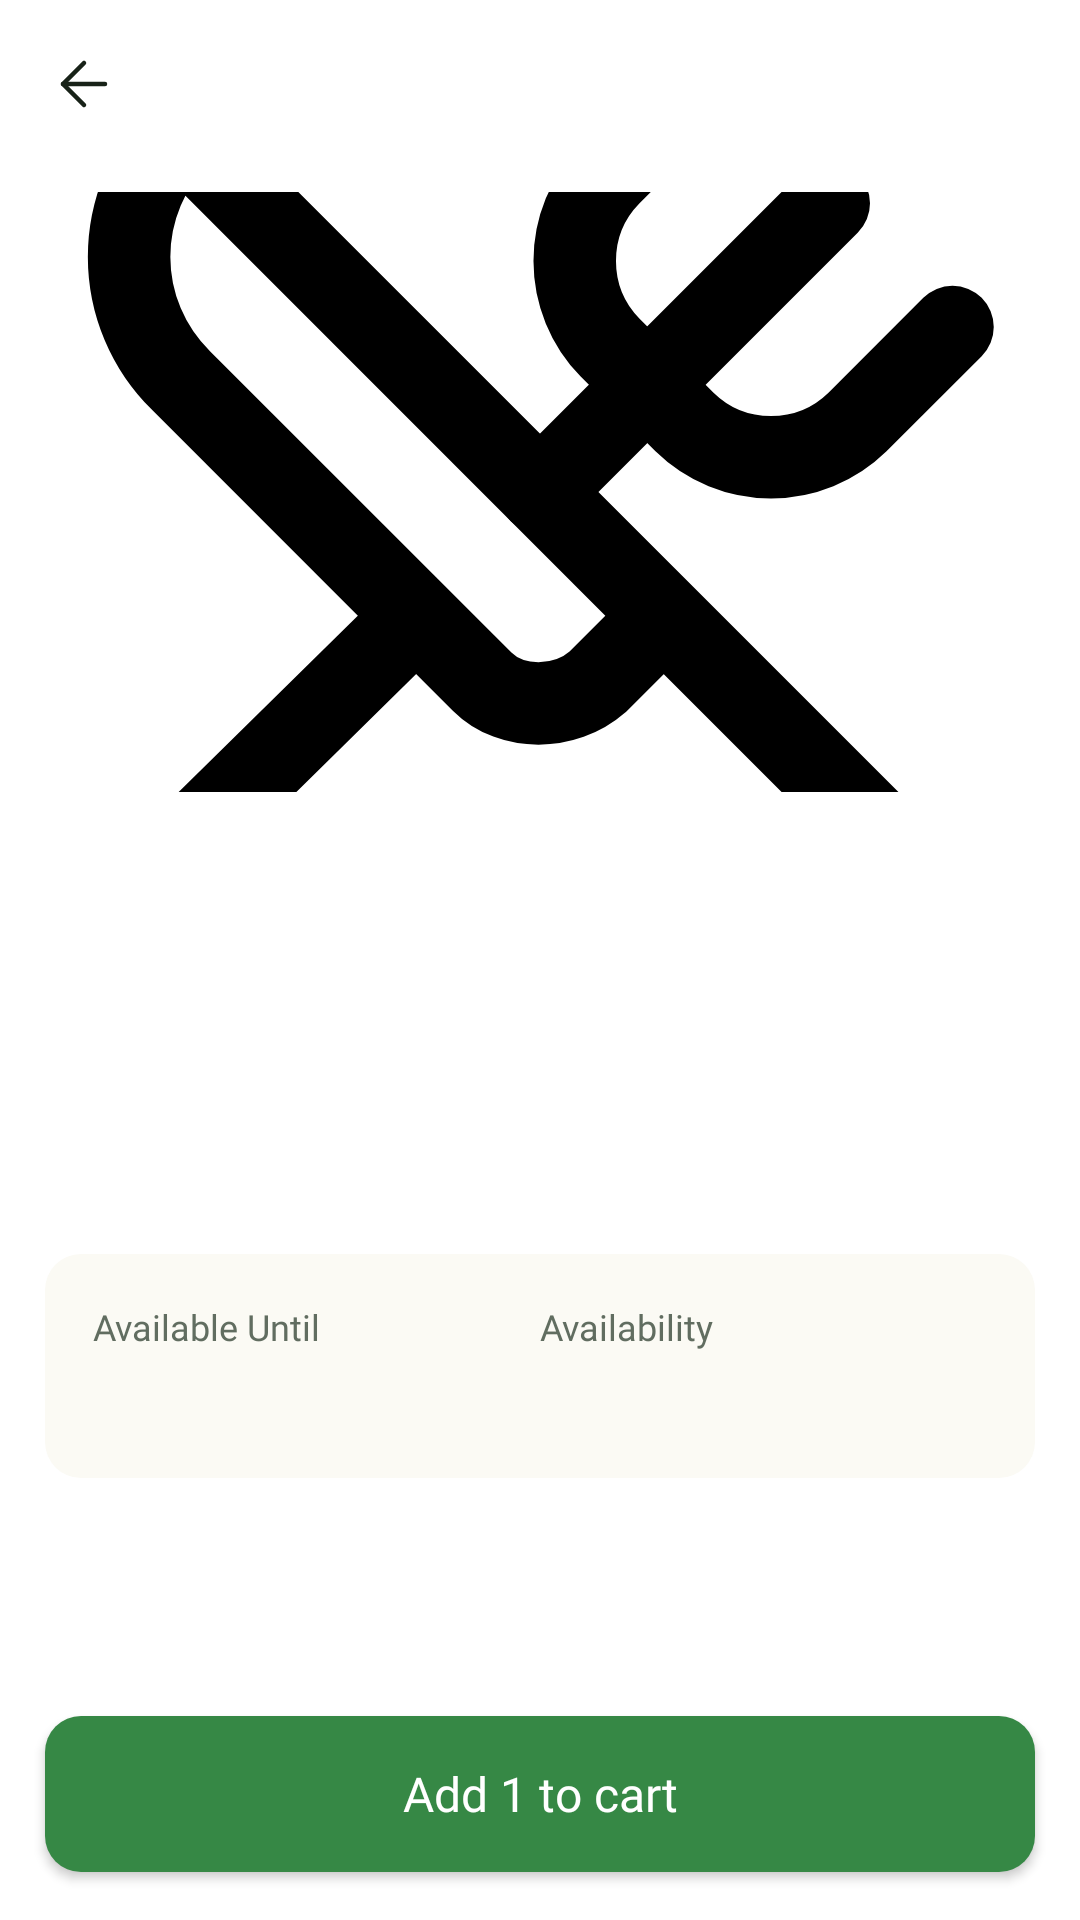

Icon bounding boxes for this 1080x1920 phone screenshot, format bbox(x1, y1, x2, y2):
Back: bbox(60, 60, 107, 108)
